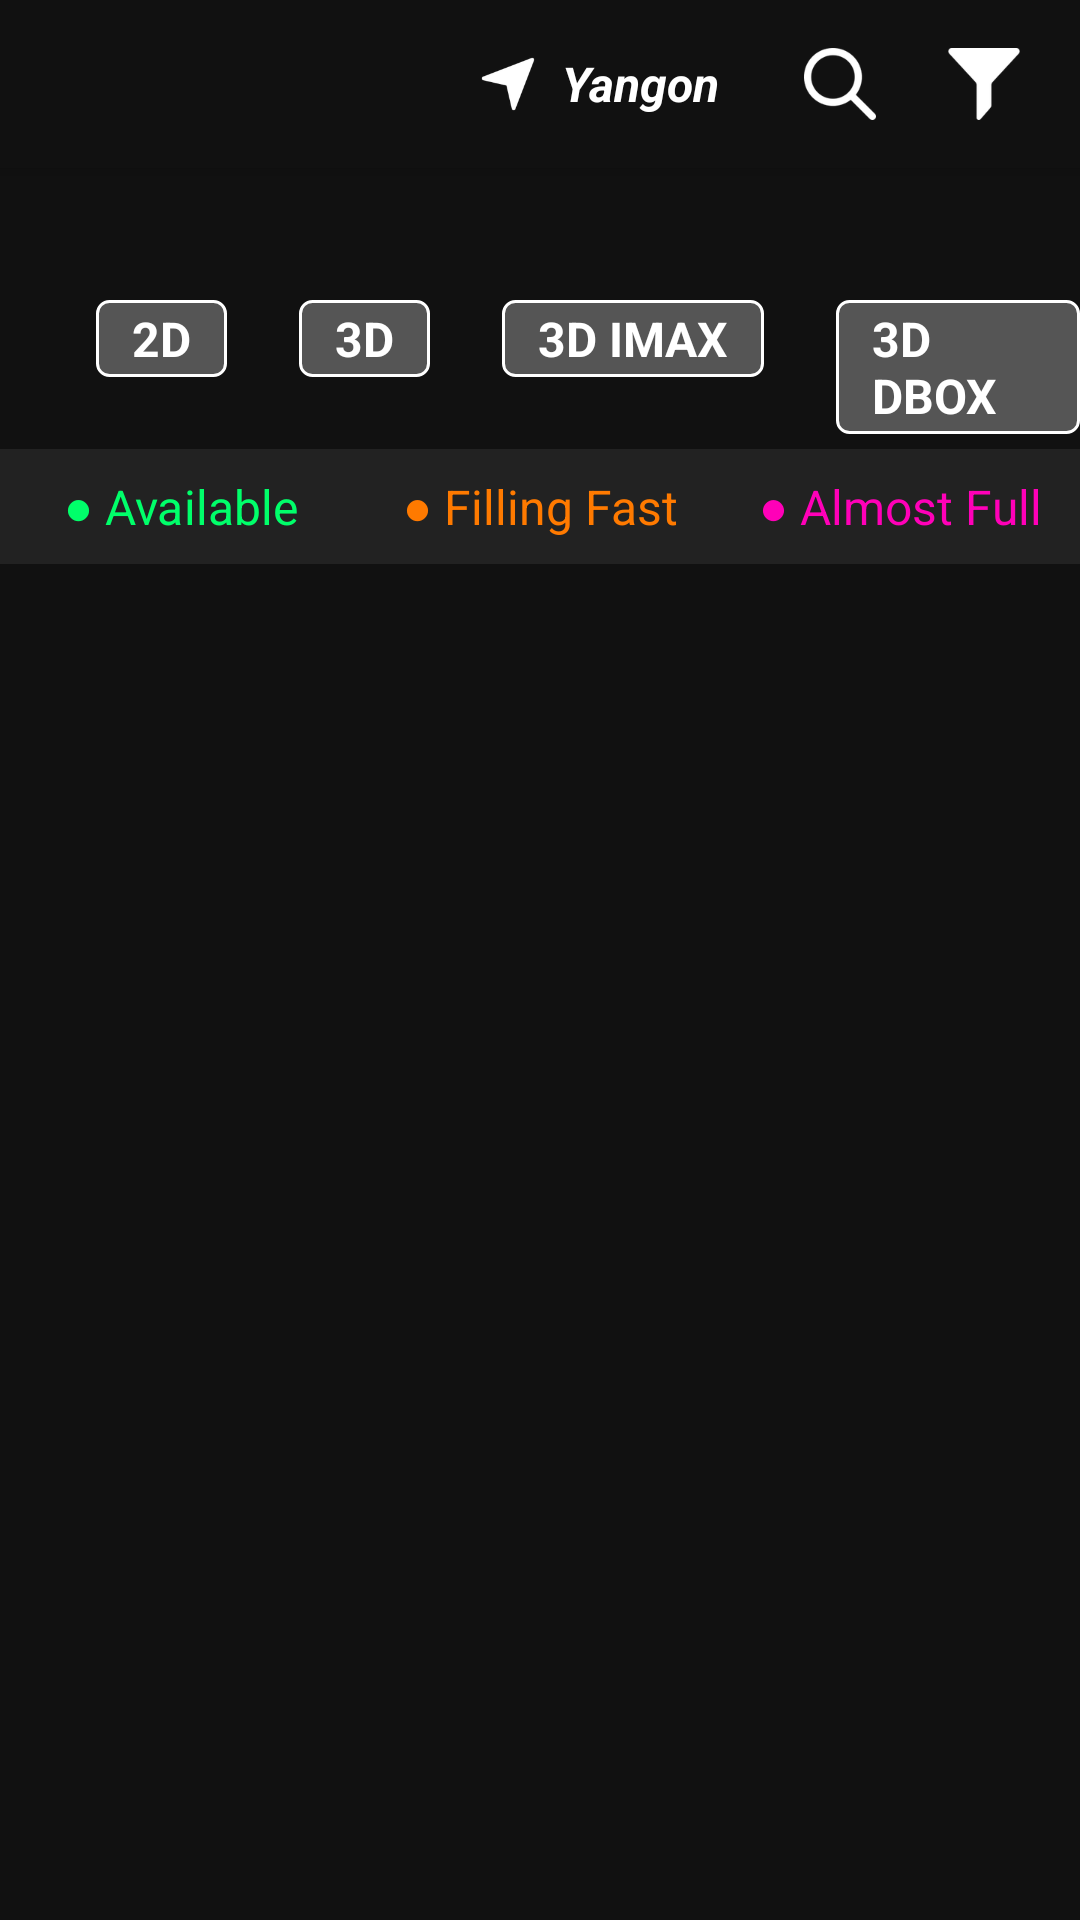

Locate icon controls on the screen. Image size 1080 x 1920, boxes as (x1, y1, x2, y2).
filter: (948, 48, 1020, 120)
navigate: (481, 58, 534, 111)
search: (804, 48, 876, 120)
